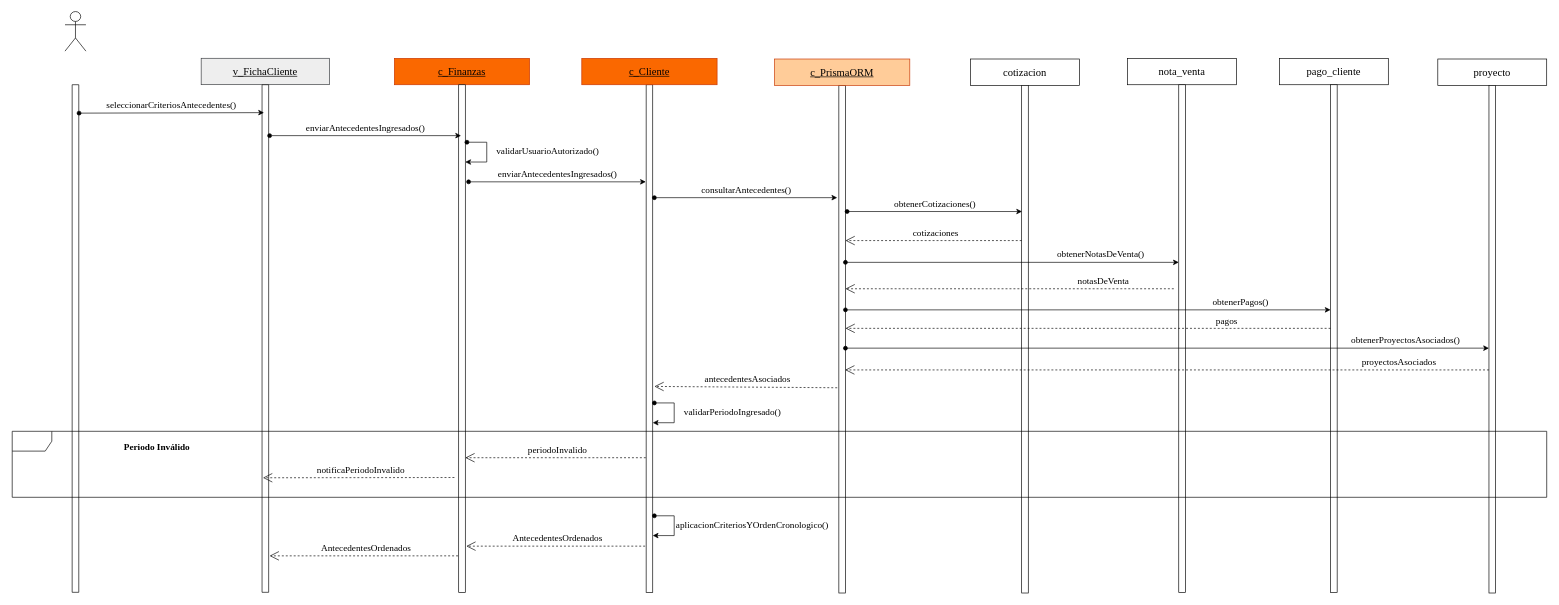
This 1559x605 diagram has some shape labels left out. Each missing label, with the box of its shape:
Exc1: (12, 431, 1547, 497)
Usuario Autorizado Gerencia, Secretaria o Contador: (64, 11, 86, 51)
